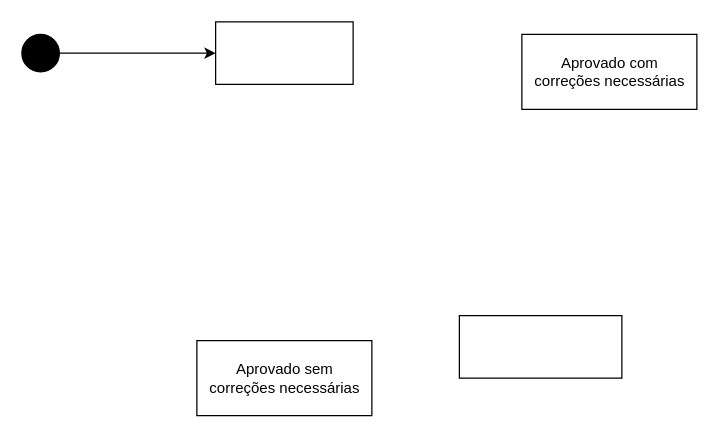
This 719x438 diagram has some shape labels left out. The shapes that lost their labels are listed below. From the top down, each one's centre as x and y in pixels, then its label:
pixel 283 52: Pendente
pixel 540 346: Reprovado
